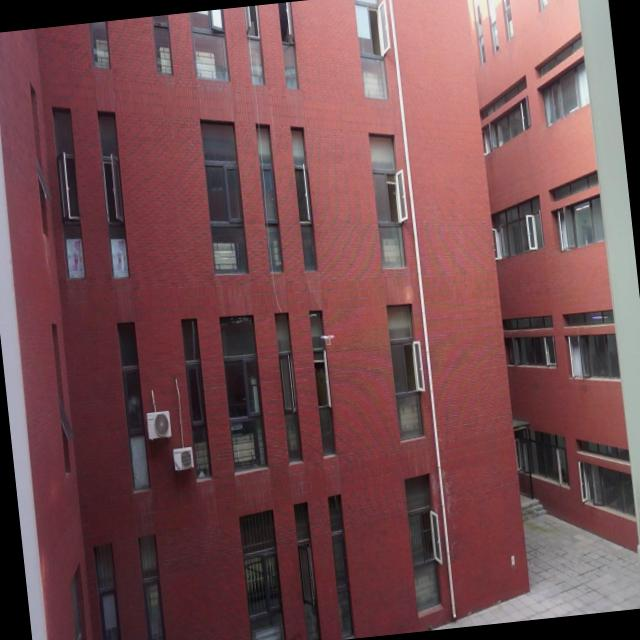drone: (318, 329, 336, 348)
